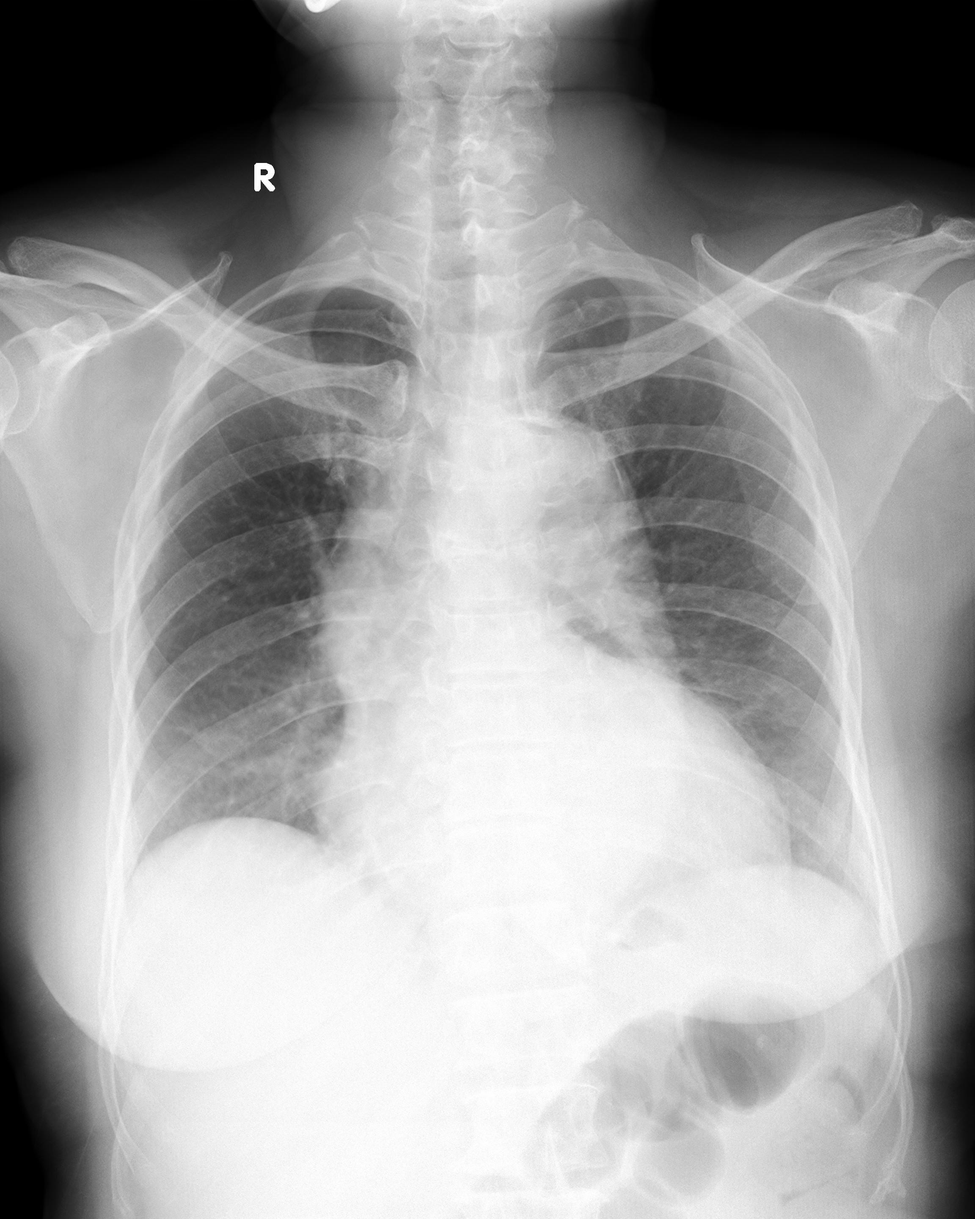Aortic enlargement: (463, 406, 667, 607)
Cardiomegaly: (315, 727, 794, 880)
